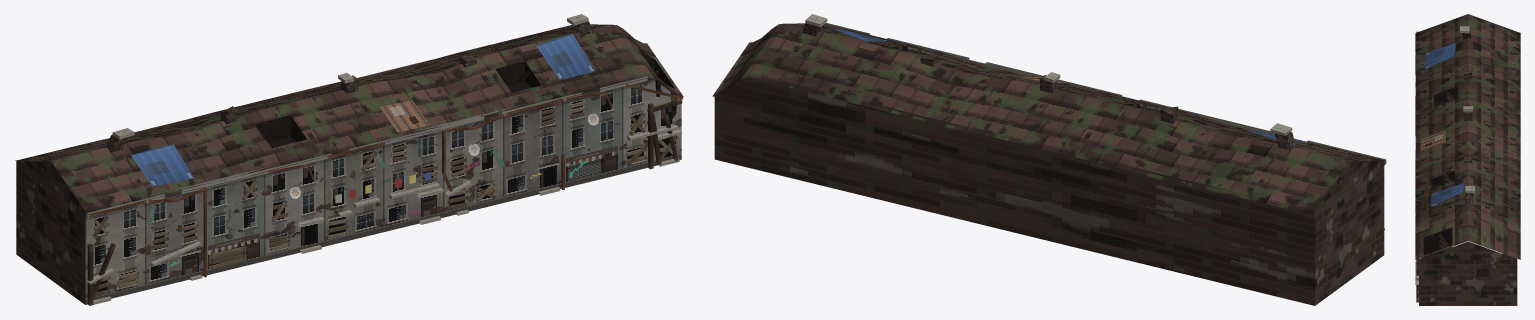
File: env_bld_terrace_poor.glb
3 renders of one model, left to right at view 1: azimuth 30°, elevation 25°; view 2: azimuth 150°, elevation 25°; view 3: azimuth 270°, elevation 25°, orthographic. The views are drawn at different scales.
Visible parts, largest first — view 1: env_bld_terrace_poor; view 2: env_bld_terrace_poor; view 3: env_bld_terrace_poor.
Part boxes in pixels (left/top/right/bottom): env_bld_terrace_poor: left=15, top=14, right=683, bottom=305; env_bld_terrace_poor: left=712, top=14, right=1386, bottom=305; env_bld_terrace_poor: left=1415, top=14, right=1520, bottom=305.
Size of the model in its own units: 0.1 by 0.0213 by 0.0215.
Materials: 4 (4 with a texture image).
